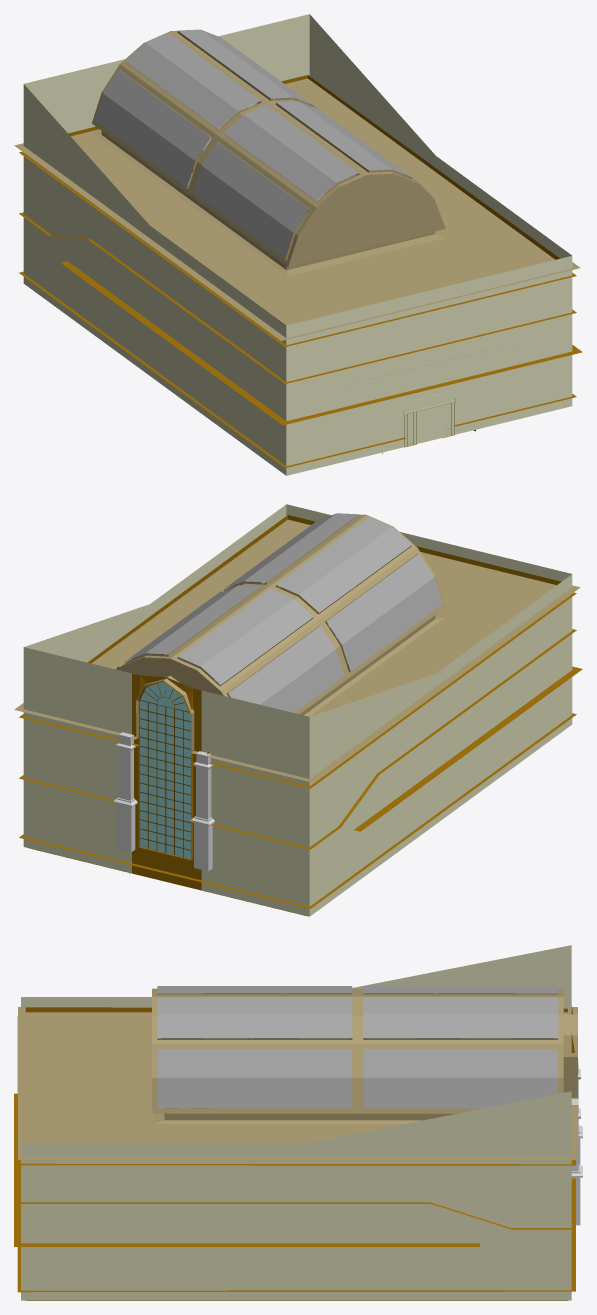
Rendered from Mesh_Main_Hall01.fbx.
The picture shows the model from 3 angles, top to bottom: view 1: azimuth 30°, elevation 25°; view 2: azimuth 150°, elevation 25°; view 3: azimuth 270°, elevation 25°; orthographic projection. The views are drawn at different scales.
Visible parts, largest first — view 1: Mesh_Main_Hall01; view 2: Mesh_Main_Hall01; view 3: Mesh_Main_Hall01.
Part boxes in pixels (x1=…): Mesh_Main_Hall01: x1=14, y1=14, x2=582, y2=475; Mesh_Main_Hall01: x1=14, y1=504, x2=582, y2=916; Mesh_Main_Hall01: x1=14, y1=945, x2=582, y2=1300.
Size of the model in its own units: 20.87 by 14.86 by 32.69.
